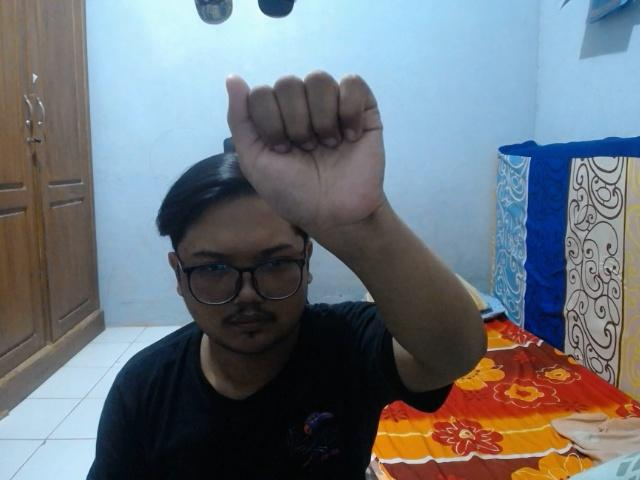Grab: (221, 67, 394, 238)
